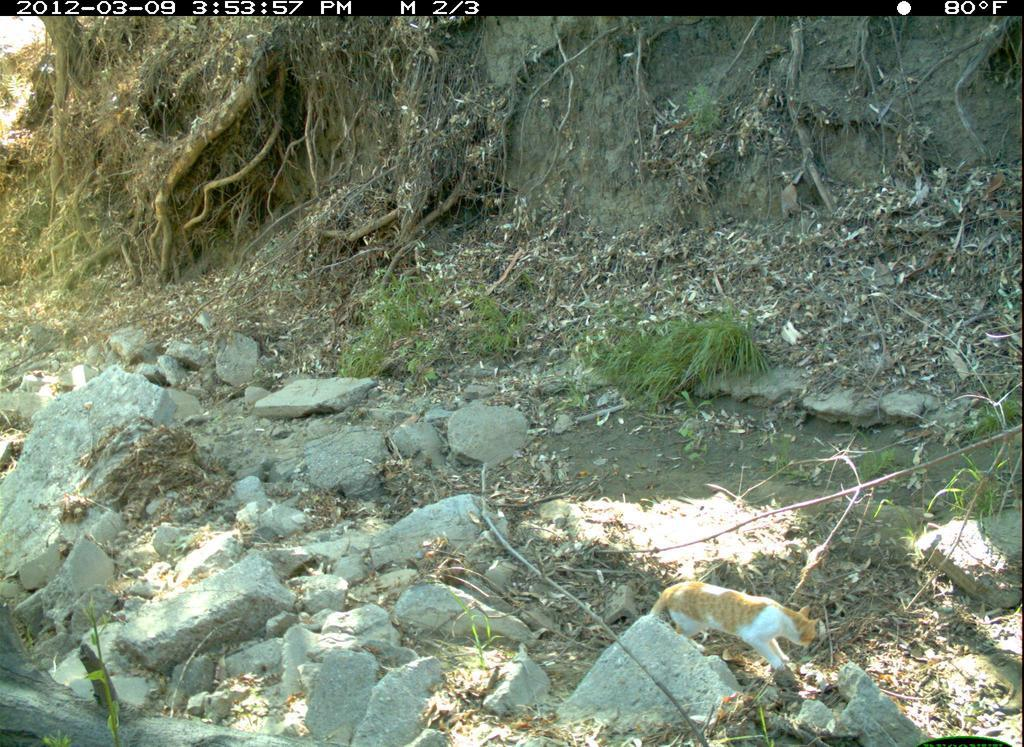cat: (623, 568, 857, 698)
